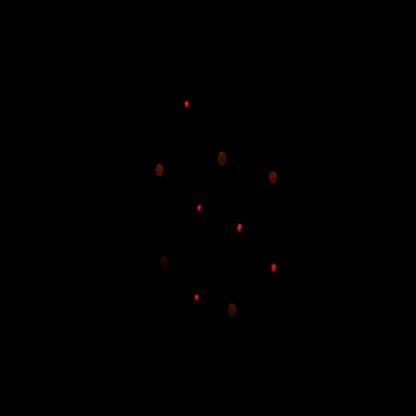PET: (181, 91, 194, 121), (267, 257, 283, 280), (234, 216, 248, 242), (194, 197, 208, 223), (191, 285, 205, 311)
PS: (150, 157, 171, 184), (156, 246, 173, 279), (225, 295, 242, 326), (216, 145, 233, 175), (268, 167, 282, 191)
